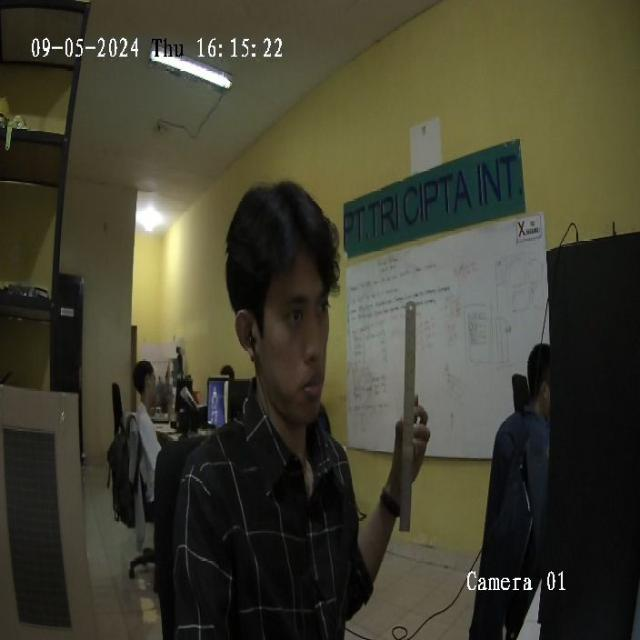Ruler: (399, 301, 415, 531)
